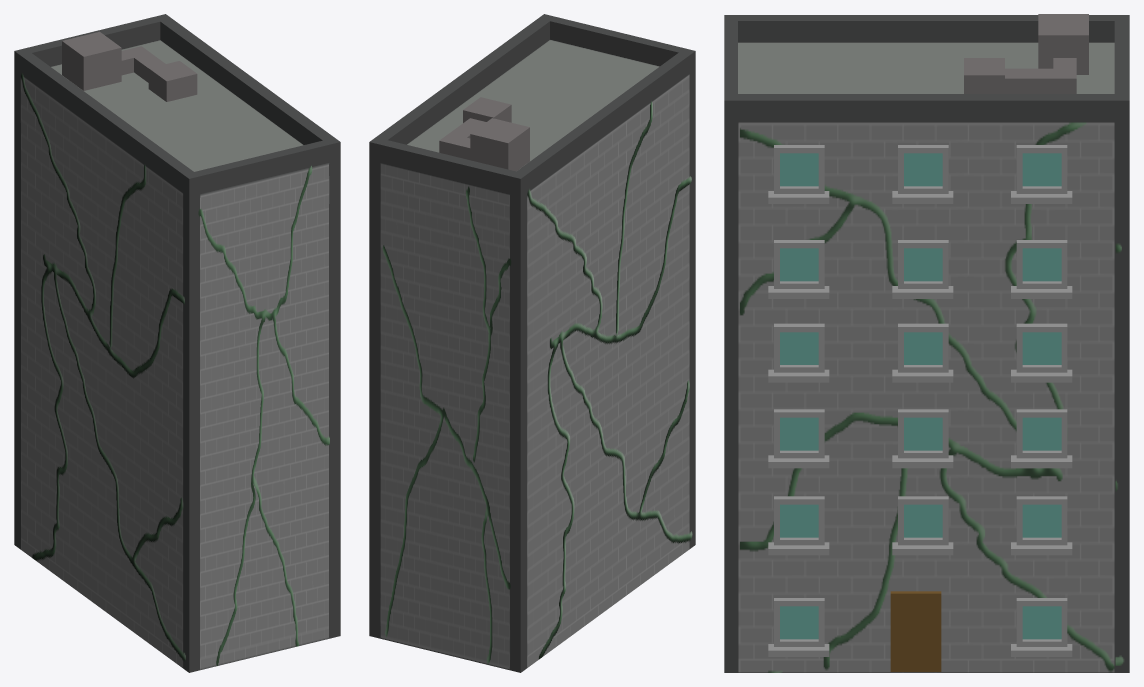
File: Tallapartmentgrey.fbx
The picture shows the model from 3 angles, left to right: view 1: azimuth 30°, elevation 25°; view 2: azimuth 150°, elevation 25°; view 3: azimuth 270°, elevation 25°; orthographic projection. The views are drawn at different scales.
Parts seen in each view (by area): view 1: polySurface126; view 2: polySurface126; view 3: polySurface126.
Boxes of the visible parts, box(x1,y1,x2,y2) form: polySurface126: box(14, 14, 340, 672); polySurface126: box(369, 14, 695, 672); polySurface126: box(724, 14, 1129, 672).
Bounding box in the file's own units: 4.31 × 12.86 × 8.
